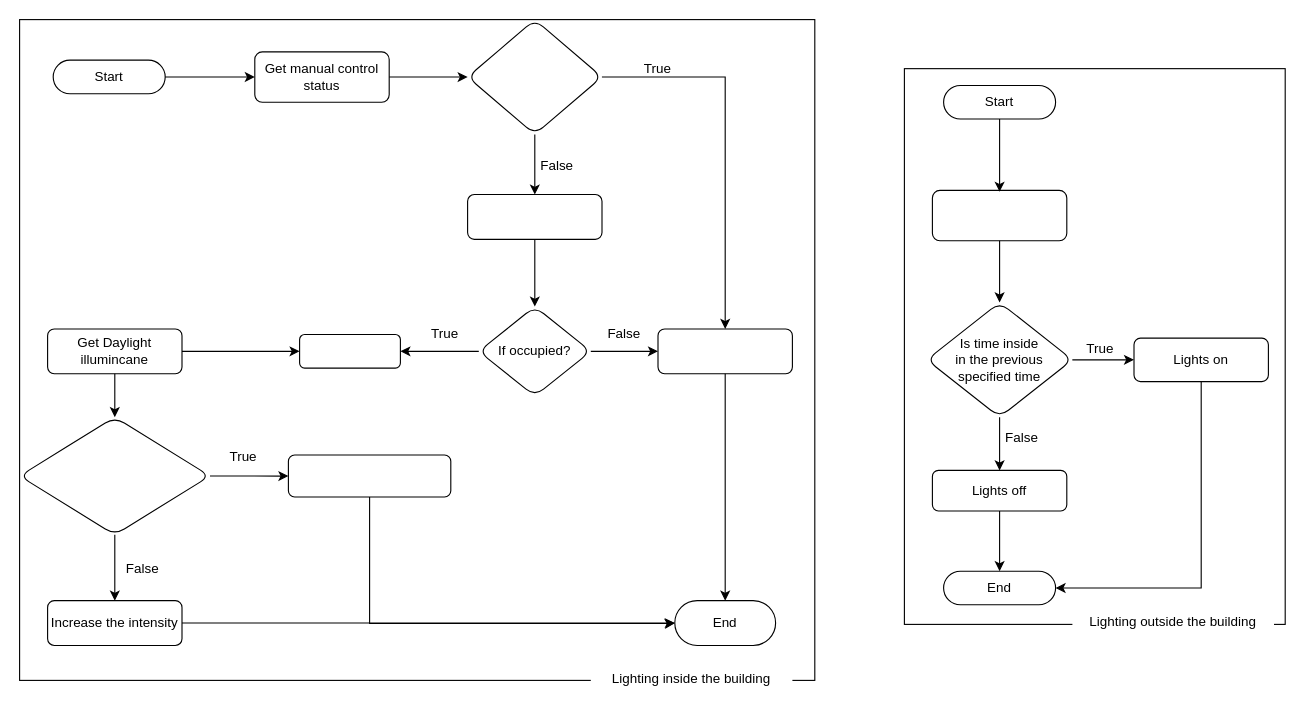
This 1305x716 diagram has some shape labels left out. Each missing label, with the centre of its shape:
"Decrease the intensity" belongs at [369,475].
"Get the occupancy status" belongs at [534,216].
"Get timestamp data" belongs at [999,215].
"If illuminance>Threshold?" belongs at [114,475].
"If the manual switch is off?" belongs at [534,76].
"Light Off" belongs at [724,351].
"Light On" belongs at [349,350].
